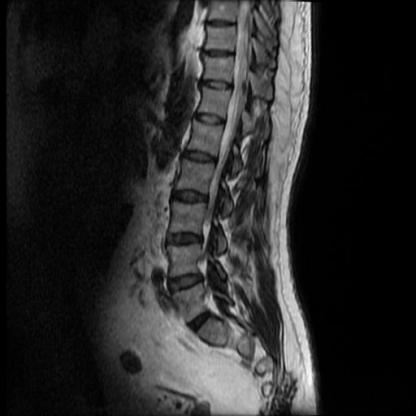Disc Bulgerotation: (182, 310, 222, 333)
Disc Relaxationrotation: (162, 185, 212, 298), (183, 309, 224, 332)
